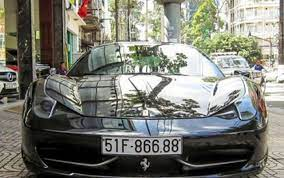Car number plates: (102, 136, 181, 155)
